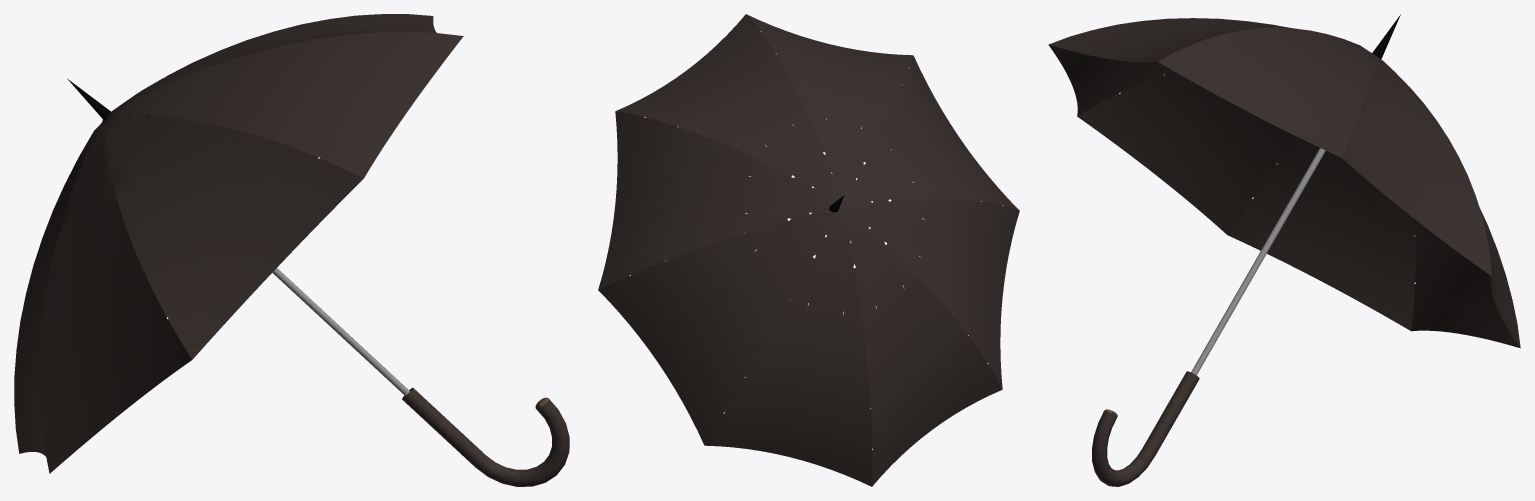
File: umbrella.dae
3 views of the same model, side by side, from view 1: azimuth 30°, elevation 25°; view 2: azimuth 150°, elevation 25°; view 3: azimuth 270°, elevation 25° (orthographic). The views are drawn at different scales.
Parts seen in each view (by area): view 1: group_2, group_3 (×2); view 2: group_2; view 3: group_2, group_3 (×2).
Boxes of the visible parts, <box> form: group_2: <box>14,14,463,473</box>; group_3 (×2): <box>272,268,569,486</box>; group_2: <box>598,14,1019,486</box>; group_2: <box>1048,18,1520,348</box>; group_3 (×2): <box>1092,148,1325,486</box>.
Bounding box in the file's own units: 22.92 × 23.01 × 21.85.
4 materials, 1 textured.
